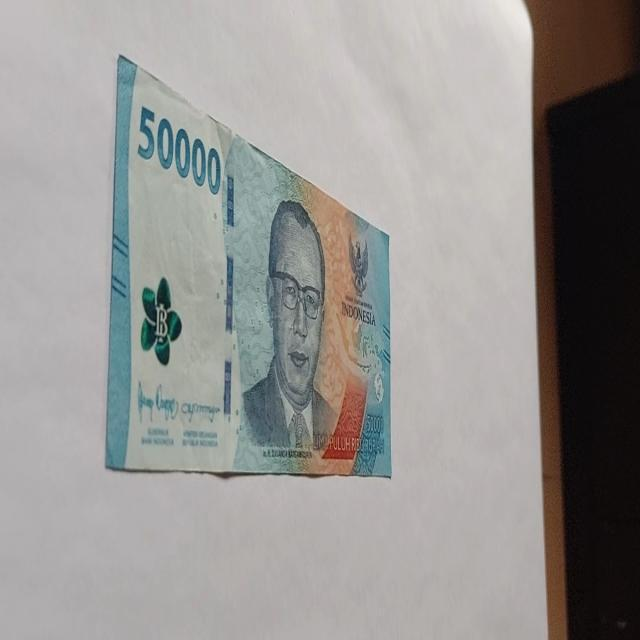lima puluh ribu rupiah: (105, 53, 392, 480), (231, 197, 367, 474), (136, 102, 222, 196)
